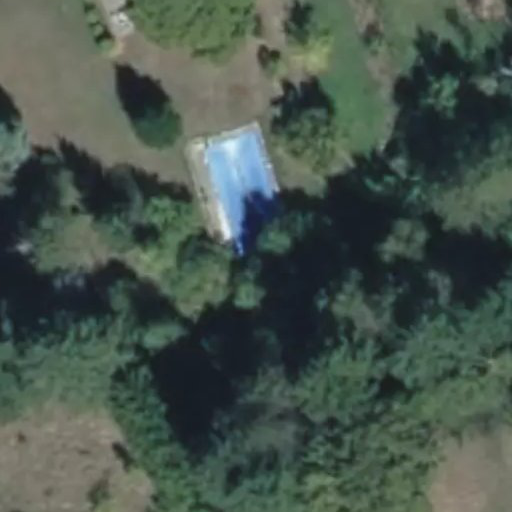pool: (212, 200, 302, 282)
